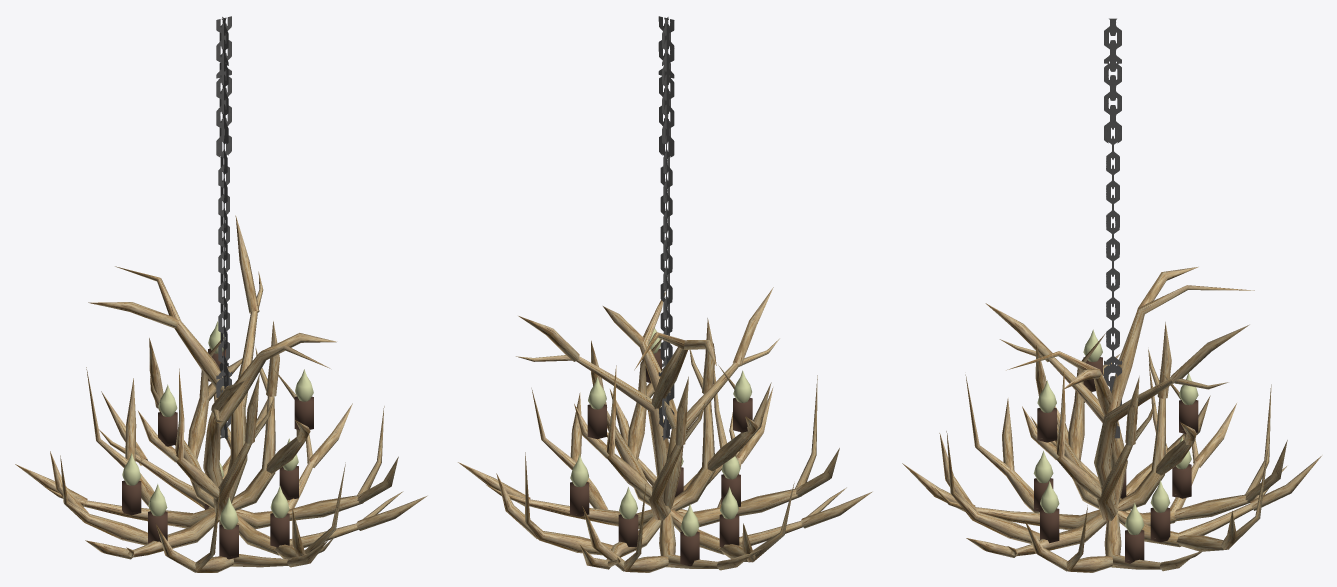
The model's file is antlerChandelier.fbx.
The picture shows the model from 3 angles, left to right: view 1: azimuth 30°, elevation 25°; view 2: azimuth 150°, elevation 25°; view 3: azimuth 270°, elevation 25°; orthographic projection.
Parts seen in each view (by area): view 1: Chandelier_LOD0, Chain; view 2: Chandelier_LOD0, Chain; view 3: Chandelier_LOD0, Chain.
Part boxes in pixels (box(x1,y1,x2,y2)): Chandelier_LOD0: box(15, 215, 427, 572); Chain: box(216, 16, 231, 439); Chandelier_LOD0: box(458, 287, 872, 572); Chain: box(658, 16, 674, 440); Chandelier_LOD0: box(902, 267, 1322, 572); Chain: box(1104, 18, 1121, 438).
Size of what is drawn, in the model's own units: 4.01 by 5.8 by 4.27.
